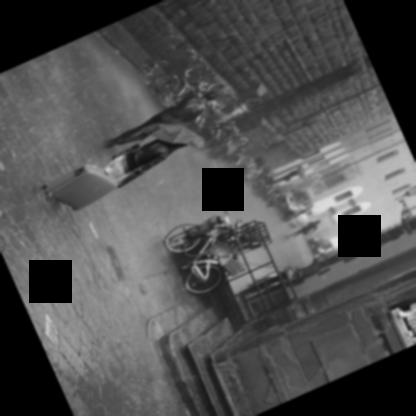suitcase: (42, 164, 118, 211)
